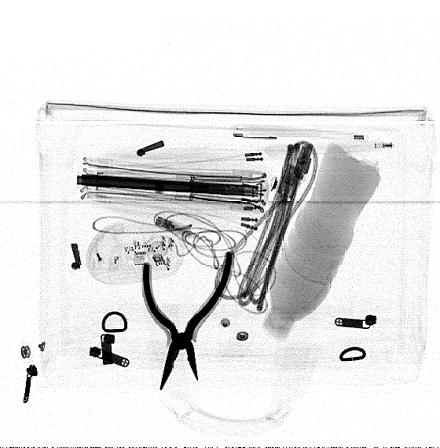Pliers: (141, 251, 235, 393)
